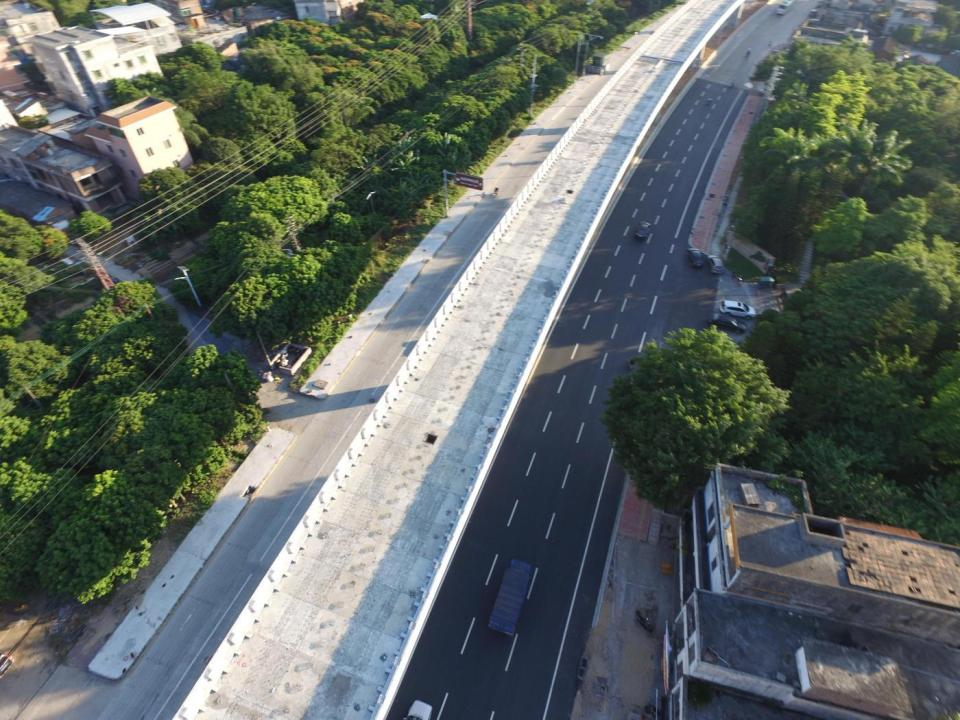car: (704, 311, 746, 334), (717, 297, 757, 317), (684, 244, 704, 268), (633, 219, 653, 241), (706, 252, 723, 274)
truck: (490, 558, 535, 636)
